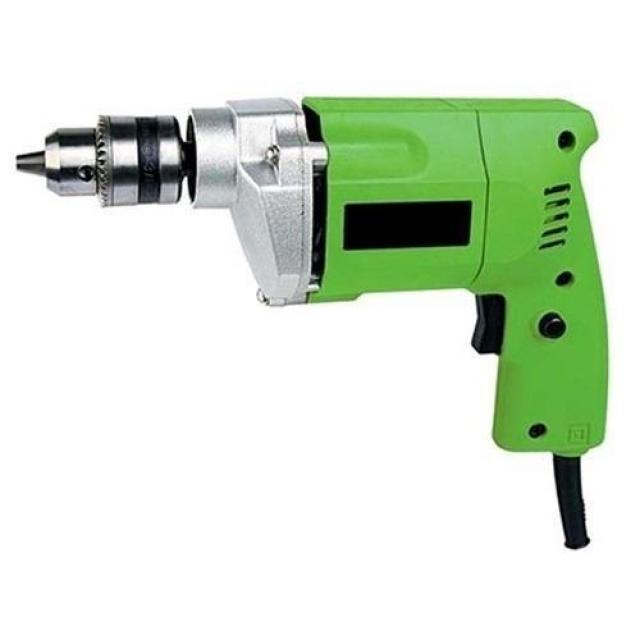drill: (16, 98, 611, 550)
